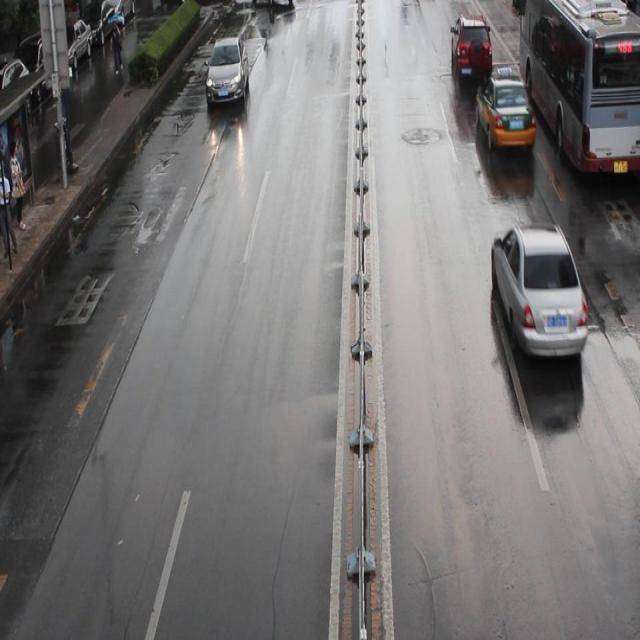car: (490, 222, 587, 358), (474, 70, 535, 148), (204, 37, 248, 104), (449, 13, 492, 78), (252, 1, 295, 10)
van: (517, 1, 640, 172)
